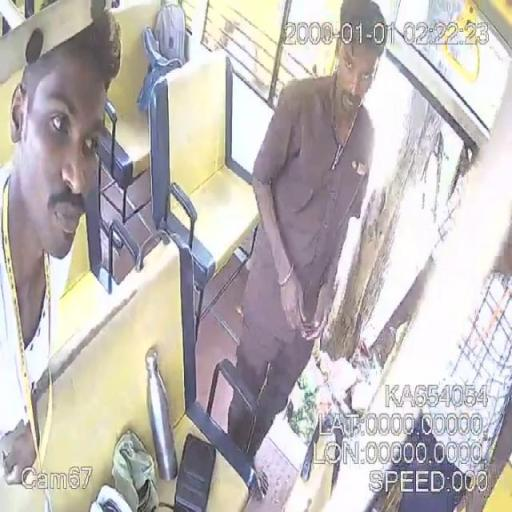persona: (220, 0, 389, 496), (1, 2, 123, 507)
